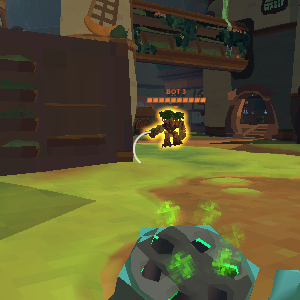model: (157, 108, 184, 149)
